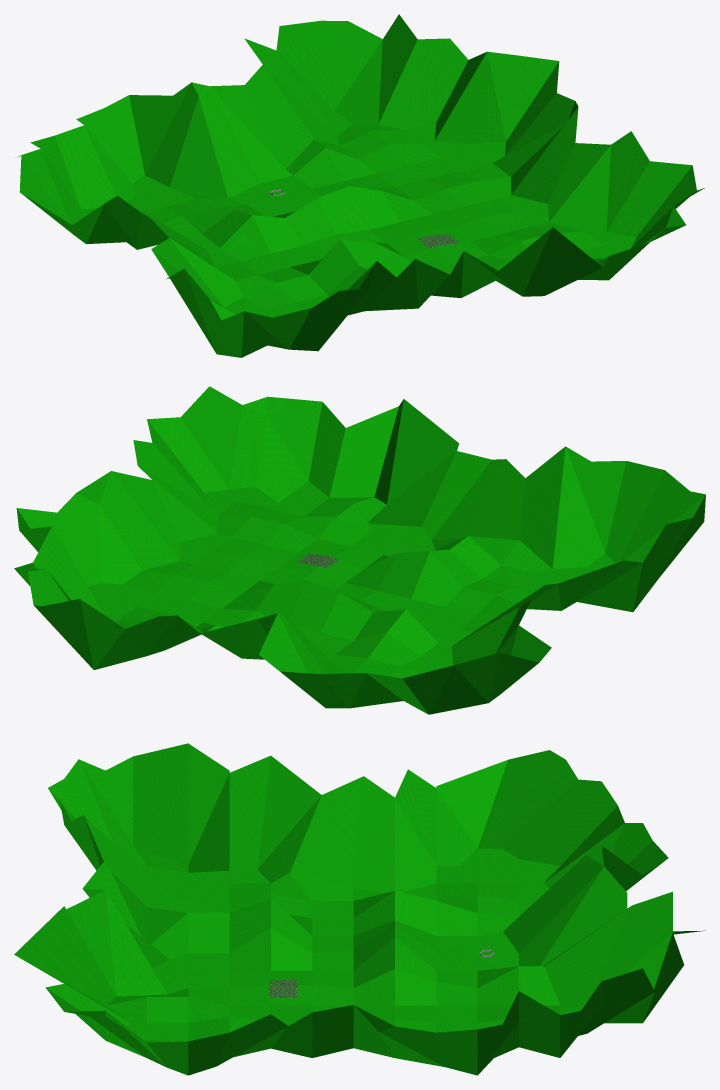
The model's file is map01.glb.
3 views of the same model, one above another, from view 1: azimuth 30°, elevation 25°; view 2: azimuth 150°, elevation 25°; view 3: azimuth 270°, elevation 25° (orthographic). The views are drawn at different scales.
Parts seen in each view (by area): view 1: terrain; view 2: terrain; view 3: terrain.
Boxes of the visible parts, <box> form: terrain: <box>17,14,704,357</box>; terrain: <box>14,386,705,714</box>; terrain: <box>14,743,705,1075</box>.
Size of the model in its own units: 8082 by 1467 by 8264.
Materials: 15 (9 with a texture image).
